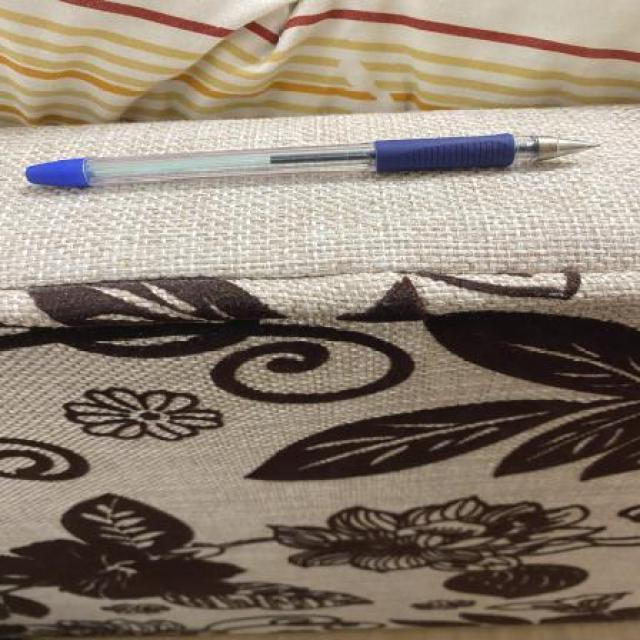pen: (22, 129, 597, 192)
